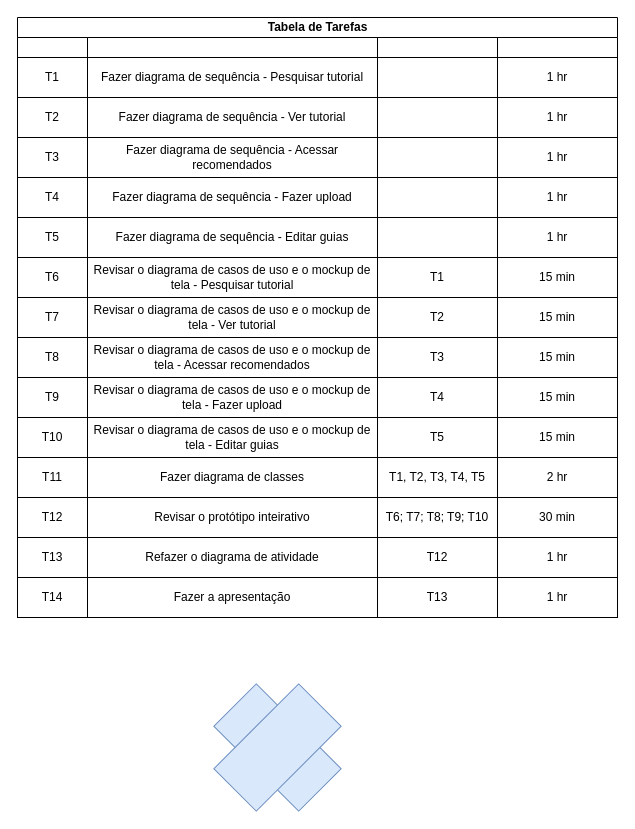
Some shapes in this 635 by 829 pixel diagram are drawn without their labels. The box of each missing label's shape, as (x1, y1, x2, y2) in pixels:
Dependencias: (376, 36, 498, 618)
Descrição: (86, 36, 378, 618)
Tarefas: (16, 36, 88, 618)
Tempo: (496, 36, 618, 618)
